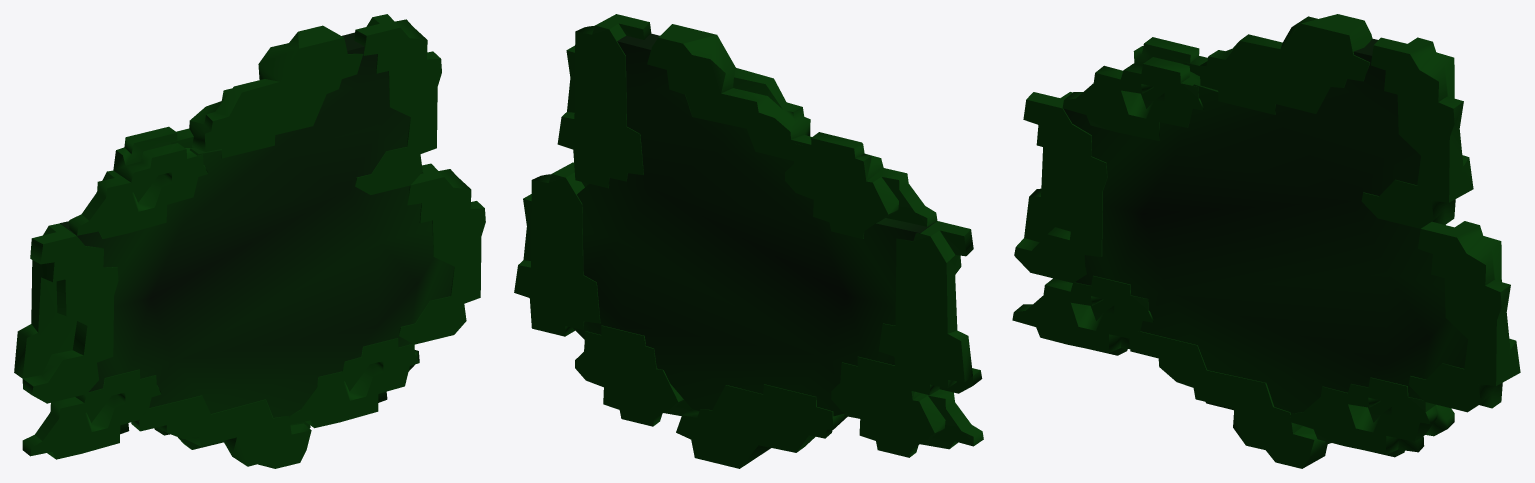
File: DBK_Brick_Prop_Big_B.fbx
3 views of the same model, side by side, from view 1: azimuth 30°, elevation 25°; view 2: azimuth 150°, elevation 25°; view 3: azimuth 330°, elevation 25° (orthographic). The views are drawn at different scales.
Visible parts, largest first — view 1: DBK_Brick_Prop_Big_B; view 2: DBK_Brick_Prop_Big_B; view 3: DBK_Brick_Prop_Big_B.
Boxes of the visible parts, x1,y1,x2,y2 form: DBK_Brick_Prop_Big_B: (14, 14, 485, 468); DBK_Brick_Prop_Big_B: (514, 14, 983, 468); DBK_Brick_Prop_Big_B: (1012, 14, 1520, 468).
Bounding box in the file's own units: 297 × 258 × 20.05.
